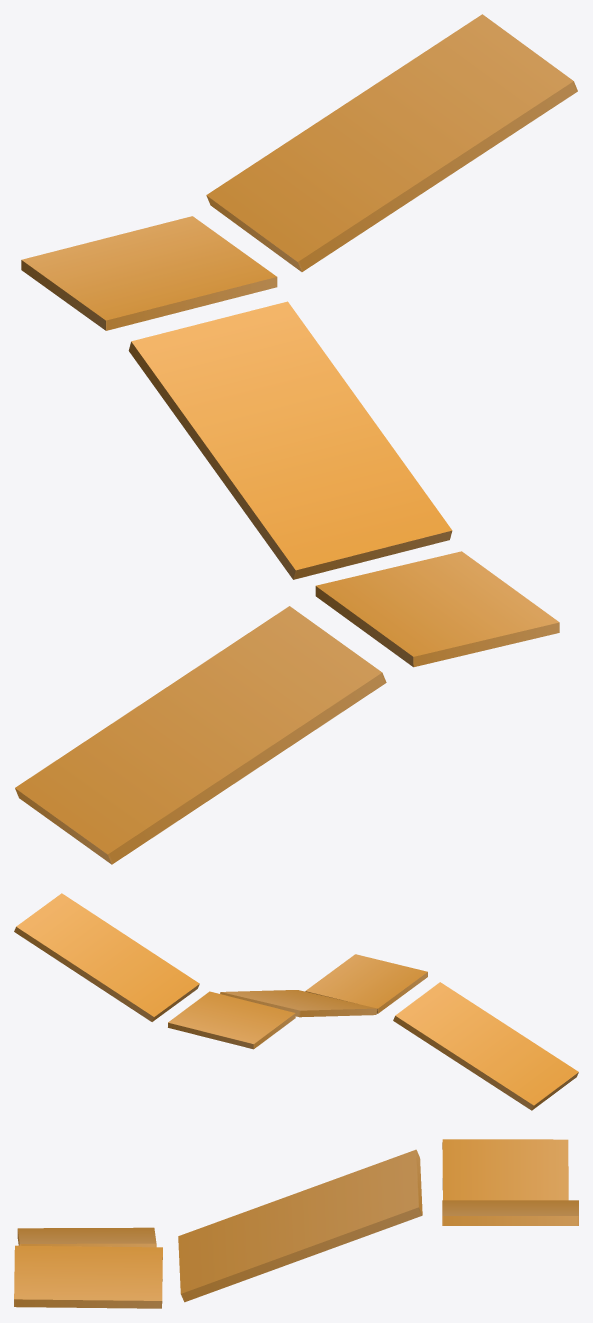
Rendered from oboard.FBX.
3 views of the same model, one above another, from view 1: azimuth 30°, elevation 25°; view 2: azimuth 150°, elevation 25°; view 3: azimuth 270°, elevation 25° (orthographic). The views are drawn at different scales.
Visible parts, largest first — view 1: Box003, Box005, Box001, Box002, Box004; view 2: Box001, Box005, Box002, Box004, Box003; view 3: Box003, Box004, Box002, Box001, Box005.
Part boxes in pixels (bbox=[...]): Box003: bbox=[128, 301, 452, 579]; Box005: bbox=[15, 606, 386, 864]; Box001: bbox=[206, 14, 577, 271]; Box002: bbox=[21, 216, 277, 330]; Box004: bbox=[315, 551, 559, 667]; Box001: bbox=[14, 893, 199, 1021]; Box005: bbox=[393, 982, 578, 1110]; Box002: bbox=[168, 991, 295, 1049]; Box004: bbox=[305, 954, 427, 1013]; Box003: bbox=[220, 990, 377, 1017]; Box003: bbox=[178, 1149, 422, 1302]; Box004: bbox=[14, 1245, 162, 1308]; Box002: bbox=[442, 1139, 568, 1200]; Box001: bbox=[442, 1200, 578, 1225]; Box005: bbox=[17, 1227, 156, 1247].
Bounding box in the file's own units: 224 × 194 × 112.
Materials: 1 (1 with a texture image).
